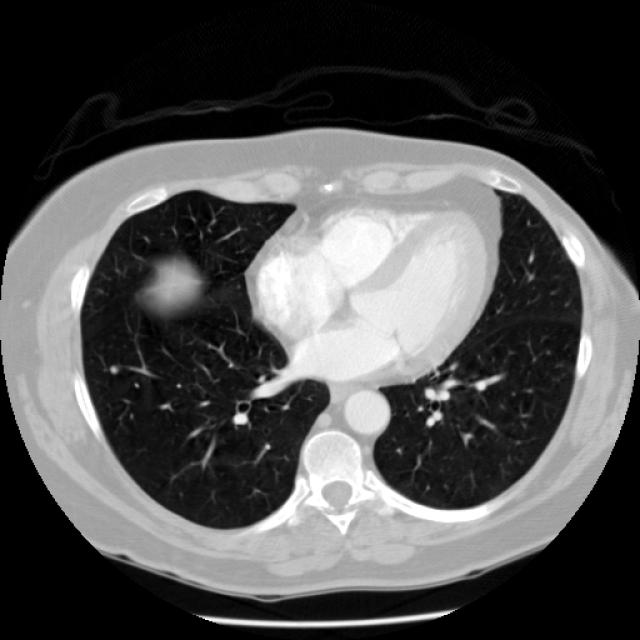nodule: (100, 356, 125, 382)
